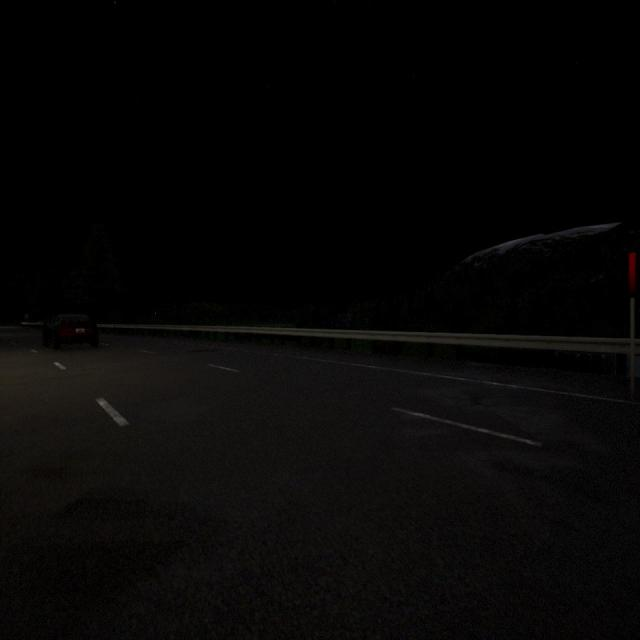Traffic_Signs: (628, 251, 637, 294)
Vehicle: (42, 314, 99, 349)
